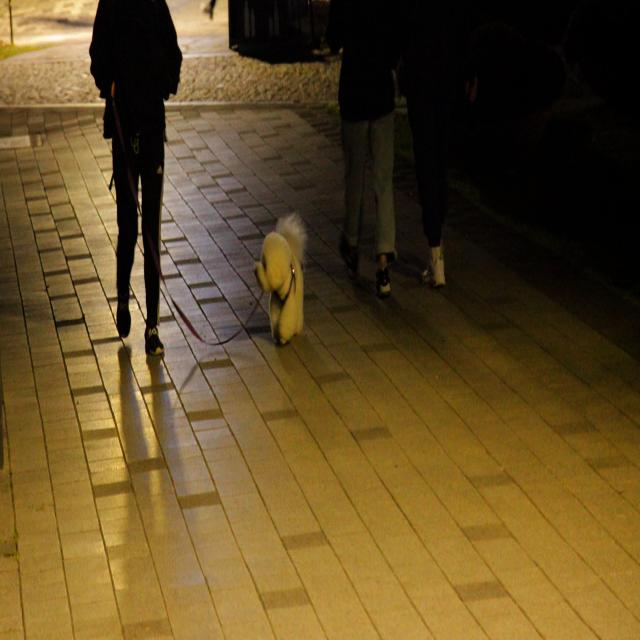Leashed_Dog: (142, 171, 306, 348)
